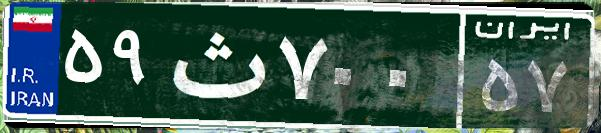0: (385, 28, 445, 110), (330, 28, 385, 110)
5: (57, 26, 110, 107), (475, 38, 525, 113)
7: (273, 28, 330, 110), (525, 38, 570, 115)
9: (110, 28, 158, 105)
ث: (158, 15, 273, 115)
